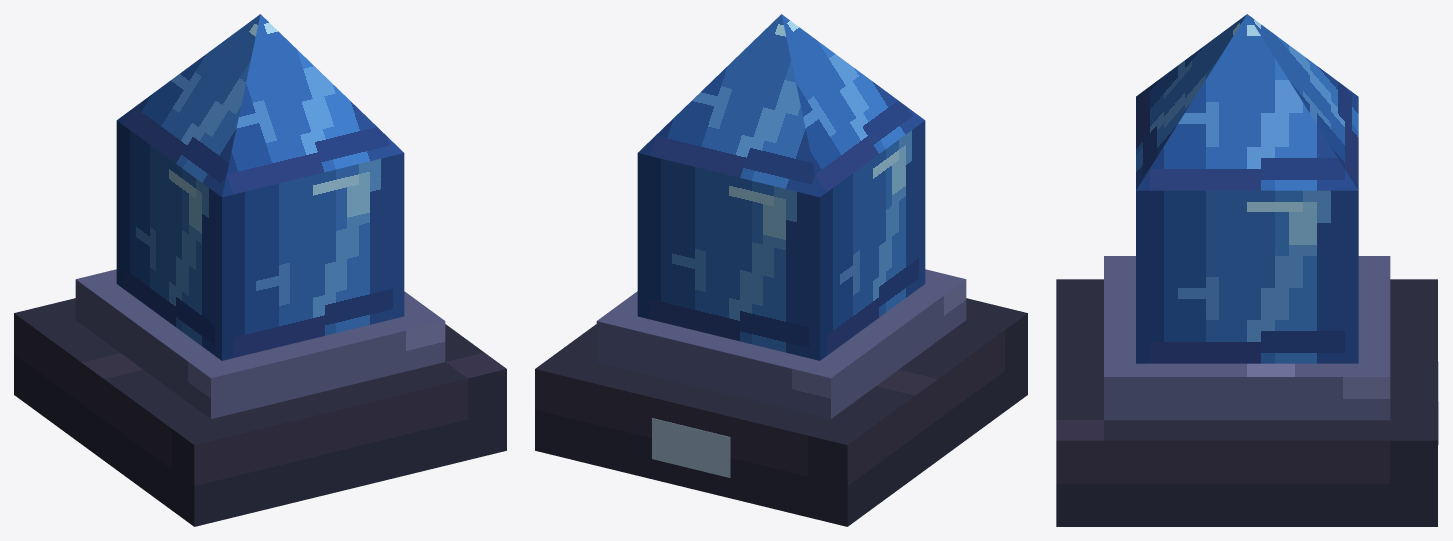
The model's file is seed_storage_crystal.obj.
3 views of the same model, side by side, from view 1: azimuth 30°, elevation 25°; view 2: azimuth 150°, elevation 25°; view 3: azimuth 270°, elevation 25° (orthographic). The views are drawn at different scales.
Parts seen in each view (by area): view 1: Seed point, Seed foot, Seed socket; view 2: Seed point, Seed foot, Seed socket, Channel inlay; view 3: Seed point, Seed foot, Seed socket.
Part boxes in pixels (x1,y1,x2,y2): Seed point: [116, 14, 404, 360]; Seed foot: [14, 298, 506, 526]; Seed socket: [75, 269, 445, 418]; Seed point: [637, 14, 925, 360]; Seed foot: [535, 298, 1027, 526]; Seed socket: [596, 269, 966, 418]; Channel inlay: [652, 418, 730, 477]; Seed point: [1136, 14, 1358, 363]; Seed foot: [1056, 279, 1437, 526]; Seed socket: [1104, 256, 1390, 420].
Bounding box in the file's own units: 0.5 × 0.625 × 0.5006.
